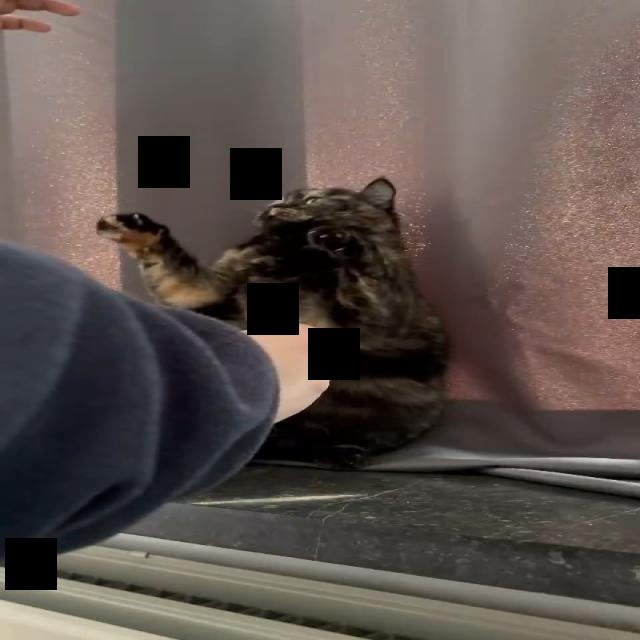authorized: (93, 176, 452, 470)
